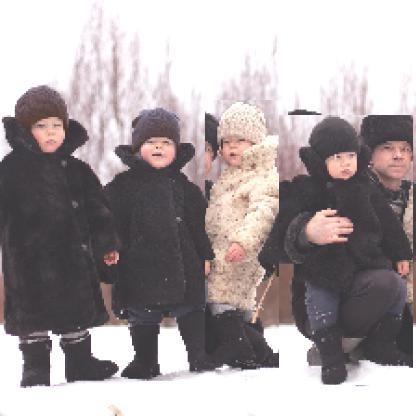child: (104, 108, 240, 381), (280, 116, 415, 387), (1, 85, 120, 390), (206, 101, 290, 365)
